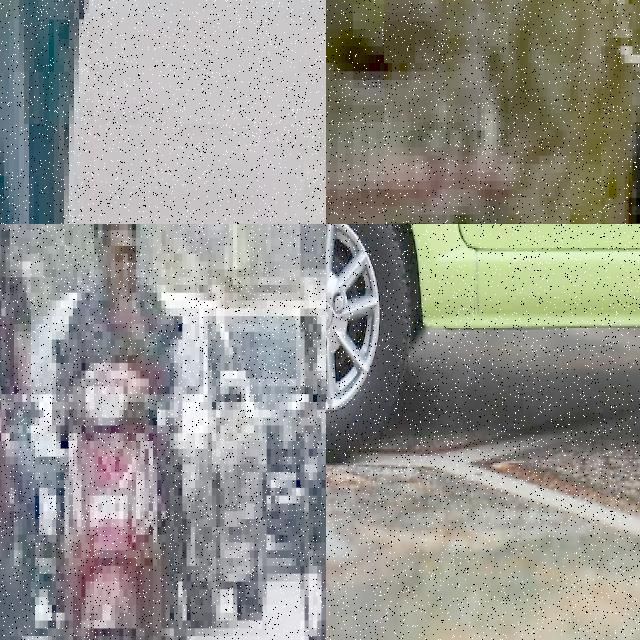bike: (56, 347, 178, 640), (570, 0, 640, 224), (0, 362, 39, 640), (300, 339, 326, 640)
car: (326, 224, 640, 488)
